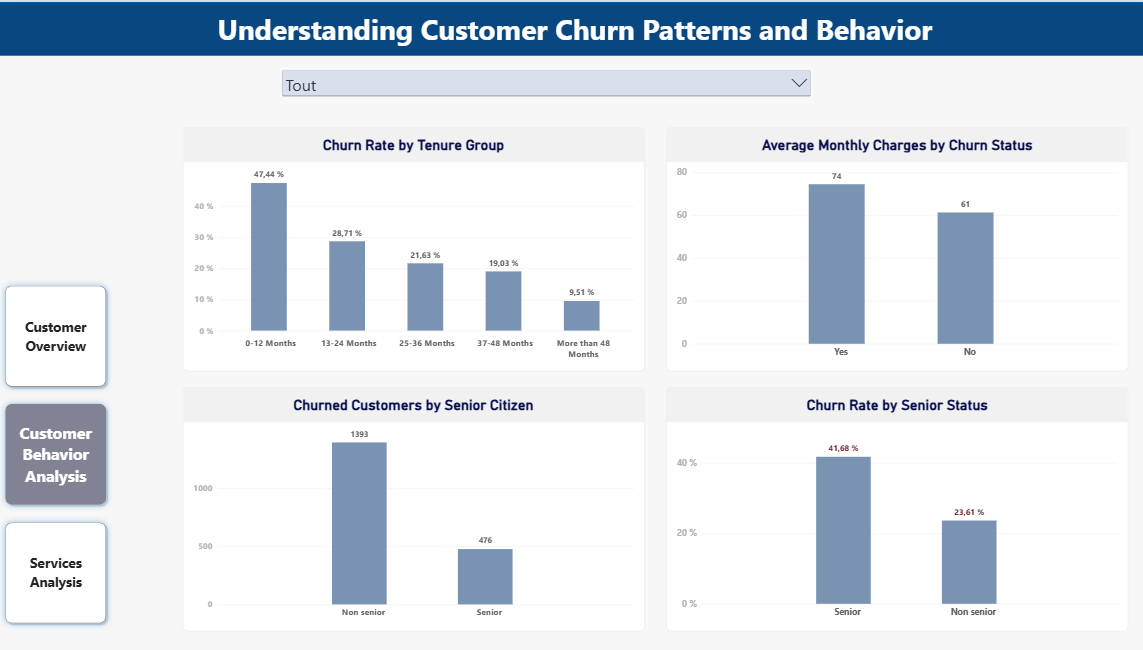

The page's visual inventory and layout, read from the dashboard file:
{"tool":"powerbi","page":{"name":"Customer Behavior Analysis","canvas":[1920,1080],"ordinal":1},"visuals":[{"type":"clusteredColumnChart","title":"Churn Rate by Tenure Group","fields":{"Category":["Telco-Customer-Churn.Tenure Group"],"Y":["Telco-Customer-Churn.Churn Rate"]},"box":[305.4,208.9,769.6,407.1],"z":0},{"type":"clusteredColumnChart","title":"Average Monthly Charges by Churn Status","fields":{"Category":["Telco-Customer-Churn.Churn"],"Y":["Avg(Telco-Customer-Churn.MonthlyCharges)"]},"box":[1112.5,208.9,769.6,407.1],"z":1000},{"type":"clusteredColumnChart","title":"Churned Customers by Senior Citizen","fields":{"Category":["Telco-Customer-Churn.Senior Status"],"Y":["Telco-Customer-Churn.Churned Customers"]},"box":[305.4,641.1,769.6,407.1],"z":2000},{"type":"shape","box":[0,0,1919.7,89.3],"z":3000},{"type":"clusteredColumnChart","title":"Churn Rate by Senior Status","fields":{"Category":["Telco-Customer-Churn.Senior Status"],"Y":["Telco-Customer-Churn.Churn Rate"]},"box":[1112.5,641.1,769.6,407.1],"z":4000},{"type":"slicer","fields":{"Values":["Telco-Customer-Churn.Contract"]},"box":[466.1,108.9,891.1,64.3],"z":5000},{"type":"pageNavigator","box":[0,462.5,189.3,583.9],"z":6000}]}

Visuals, with their boxes in screenshot pixels (x1, y1, x2, y2), scaled from the page's 1920x1080 canvas onto the 1143x650 screenshot:
"Churn Rate by Tenure Group" clusteredColumnChart: bbox=(182, 126, 640, 371)
"Average Monthly Charges by Churn Status" clusteredColumnChart: bbox=(662, 126, 1120, 371)
"Churned Customers by Senior Citizen" clusteredColumnChart: bbox=(182, 386, 640, 631)
shape: bbox=(0, 0, 1142, 54)
"Churn Rate by Senior Status" clusteredColumnChart: bbox=(662, 386, 1120, 631)
slicer - Telco-Customer-Churn.Contract: bbox=(277, 66, 808, 104)
pageNavigator: bbox=(0, 278, 113, 630)
